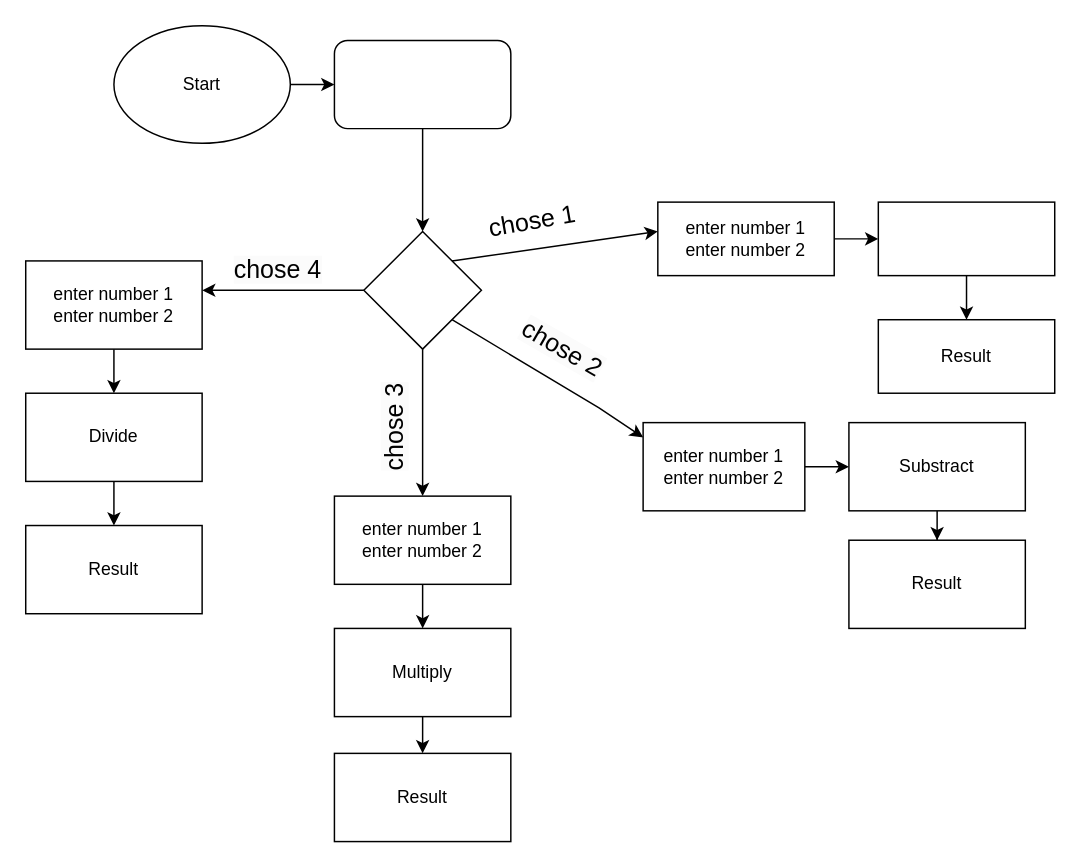
This 1080x867 diagram has some shape labels left out. The shapes that lost their labels are listed below. From the top down, each one's centre as x and y in pixels, then its label:
(422,84): Enter choise(1/2/3/4)
(966,238): Add
(421,289): if
